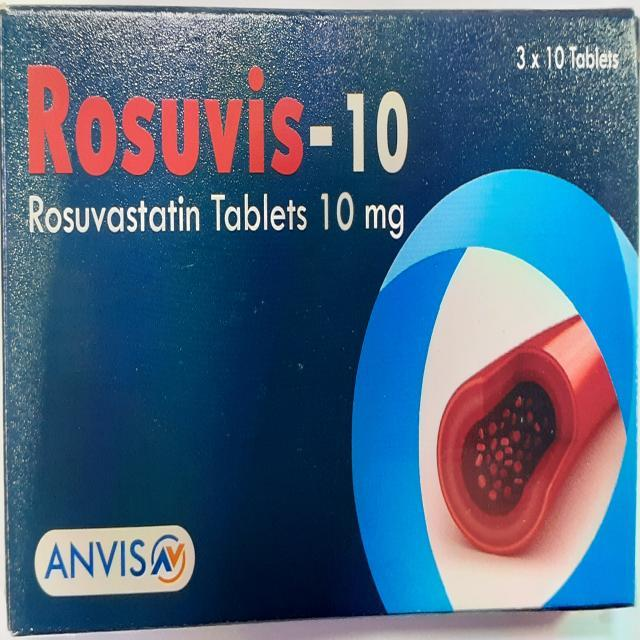drug-name: (19, 55, 408, 178)
